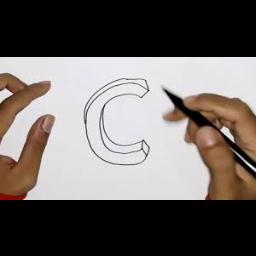c: (80, 74, 156, 172)
